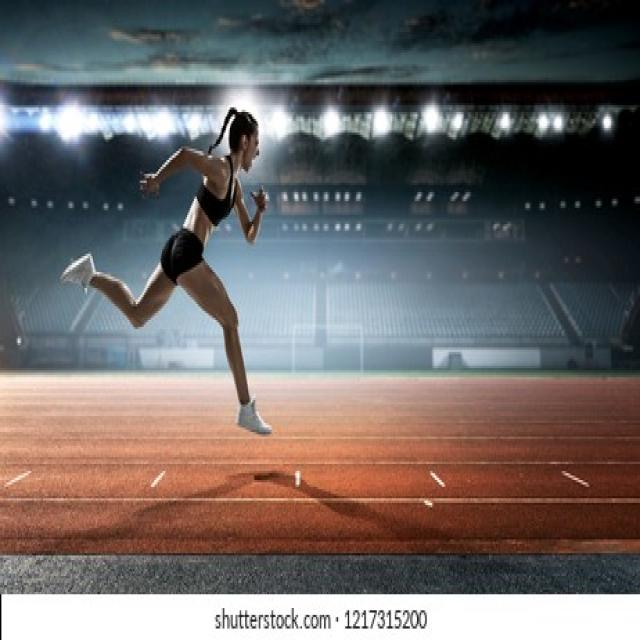running: (60, 106, 276, 440)
